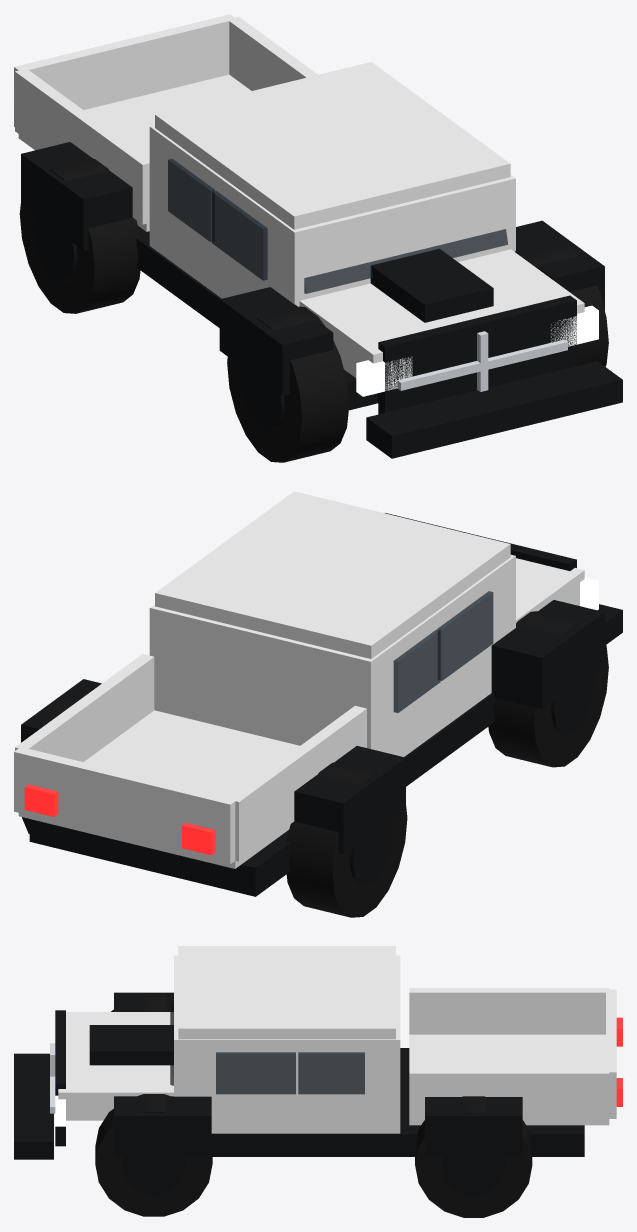
The model's file is headbutt-tyrannosaur.glb.
3 views of the same model, one above another, from view 1: azimuth 30°, elevation 25°; view 2: azimuth 150°, elevation 25°; view 3: azimuth 270°, elevation 25° (orthographic). The views are drawn at different scales.
Visible parts, largest first — view 1: chassis, wheel-front-left, wheel-back-left, glass, wheel-front-right; view 2: chassis, wheel-back-left, wheel-front-left; view 3: chassis, wheel-front-right, wheel-back-right, wheel-front-left.
Part boxes in pixels (left/top/right/bottom): chassis: left=14, top=14, right=622, bottom=458; wheel-front-left: left=227, top=306, right=349, bottom=462; wheel-back-left: left=19, top=158, right=140, bottom=313; glass: left=304, top=229, right=508, bottom=293; wheel-front-right: left=518, top=243, right=608, bottom=366; chassis: left=14, top=491, right=622, bottom=896; wheel-back-left: left=286, top=762, right=407, bottom=917; wheel-front-left: left=488, top=611, right=608, bottom=767; chassis: left=14, top=946, right=622, bottom=1159; wheel-front-right: left=95, top=1094, right=212, bottom=1216; wheel-back-right: left=415, top=1096, right=532, bottom=1217; wheel-front-left: left=111, top=995, right=166, bottom=1011.
Bounding box in the file's own units: 3.28 × 2.12 × 6.85.
